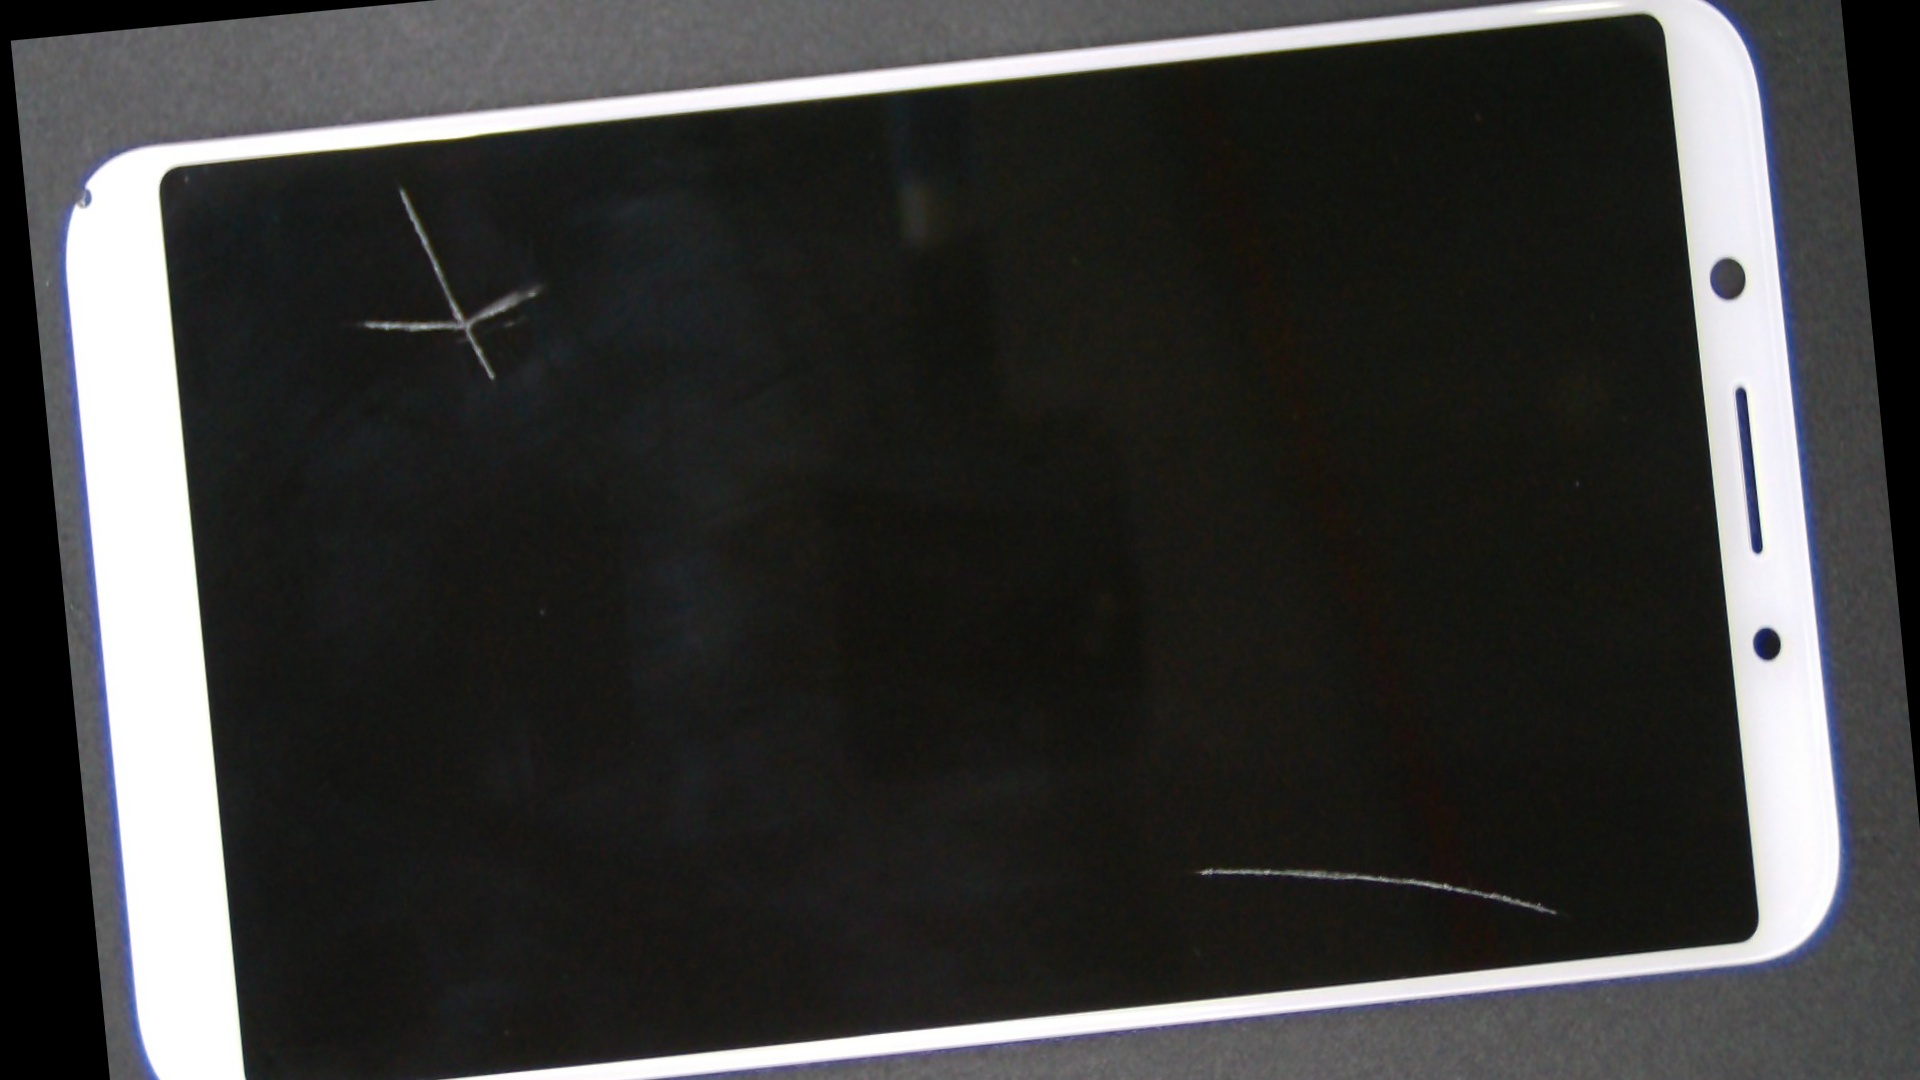oil: (609, 348, 1791, 1080), (207, 78, 597, 295)
